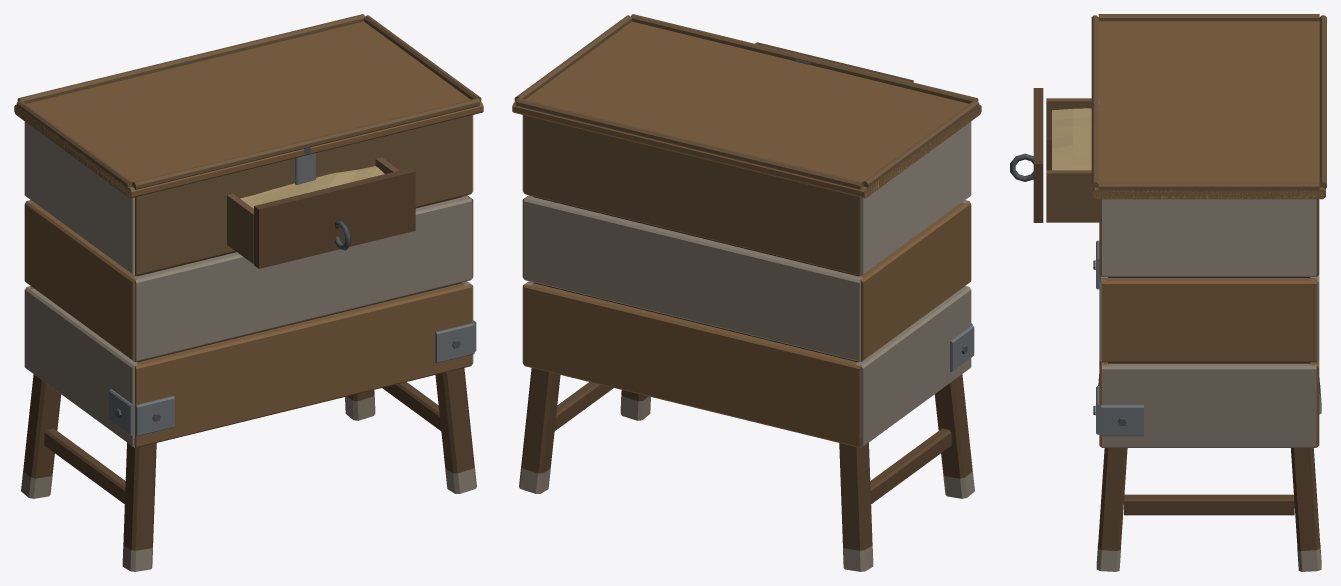
Rendered from SM_LPD_Crate_BinHutch_01.fbx.
3 views of the same model, side by side, from view 1: azimuth 30°, elevation 25°; view 2: azimuth 150°, elevation 25°; view 3: azimuth 270°, elevation 25° (orthographic).
Parts seen in each view (by area): view 1: SM_LPD_Crate_BinHutch_01; view 2: SM_LPD_Crate_BinHutch_01; view 3: SM_LPD_Crate_BinHutch_01.
Boxes of the visible parts, <box> form: SM_LPD_Crate_BinHutch_01: <box>14,14,483,571</box>; SM_LPD_Crate_BinHutch_01: <box>512,14,981,571</box>; SM_LPD_Crate_BinHutch_01: <box>1010,14,1326,571</box>.
Bounding box in the file's own units: 0.904 × 0.9602 × 0.7053.
